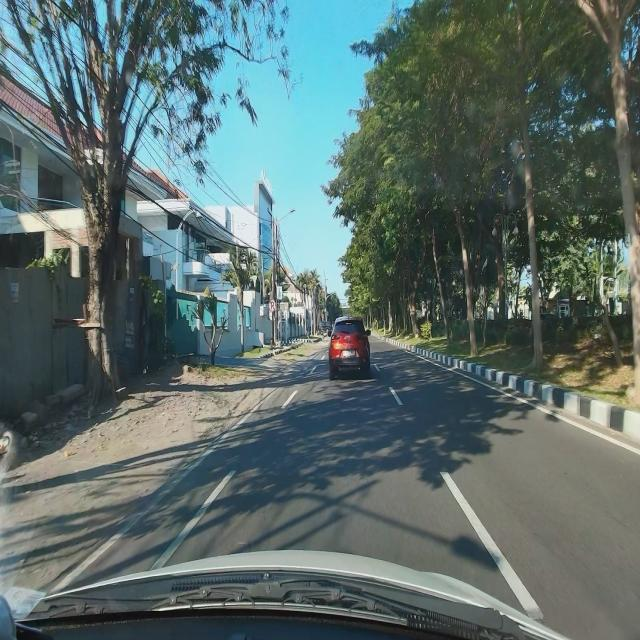car: (328, 314, 372, 381)
license-plate: (342, 348, 356, 358)
